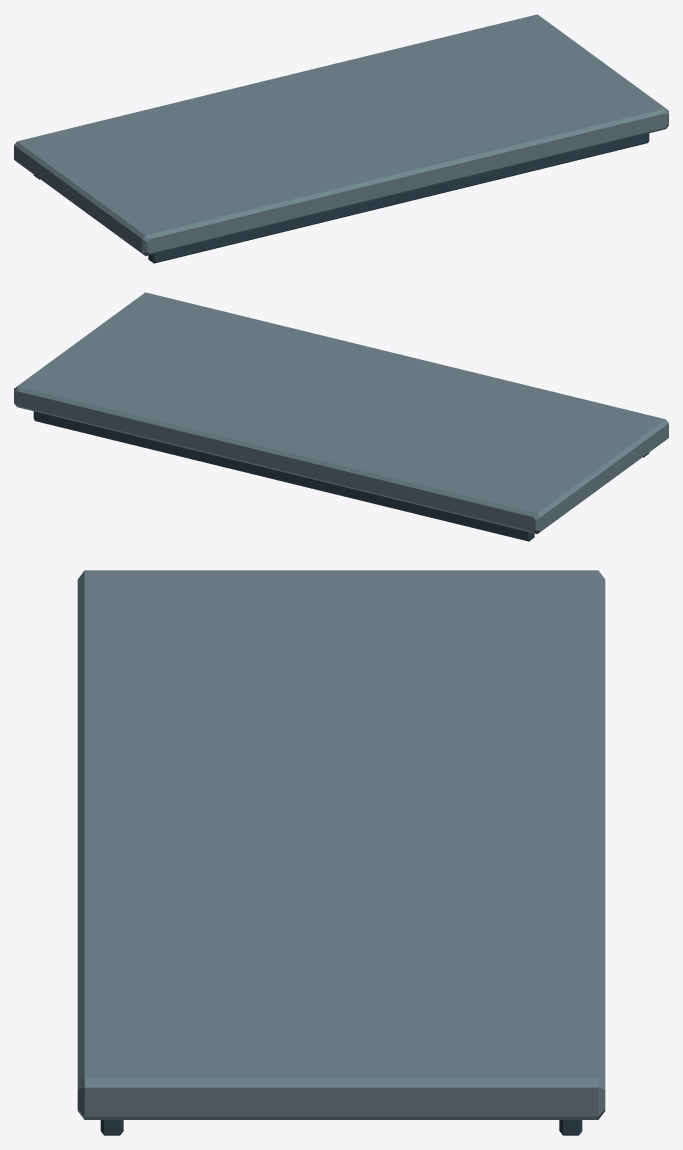
File: 04_Shelf_2m.obj
3 views of the same model, one above another, from view 1: azimuth 30°, elevation 25°; view 2: azimuth 150°, elevation 25°; view 3: azimuth 270°, elevation 25° (orthographic). The views are drawn at different scales.
Size of the model in its own units: 2.12 by 0.135 by 0.92.
